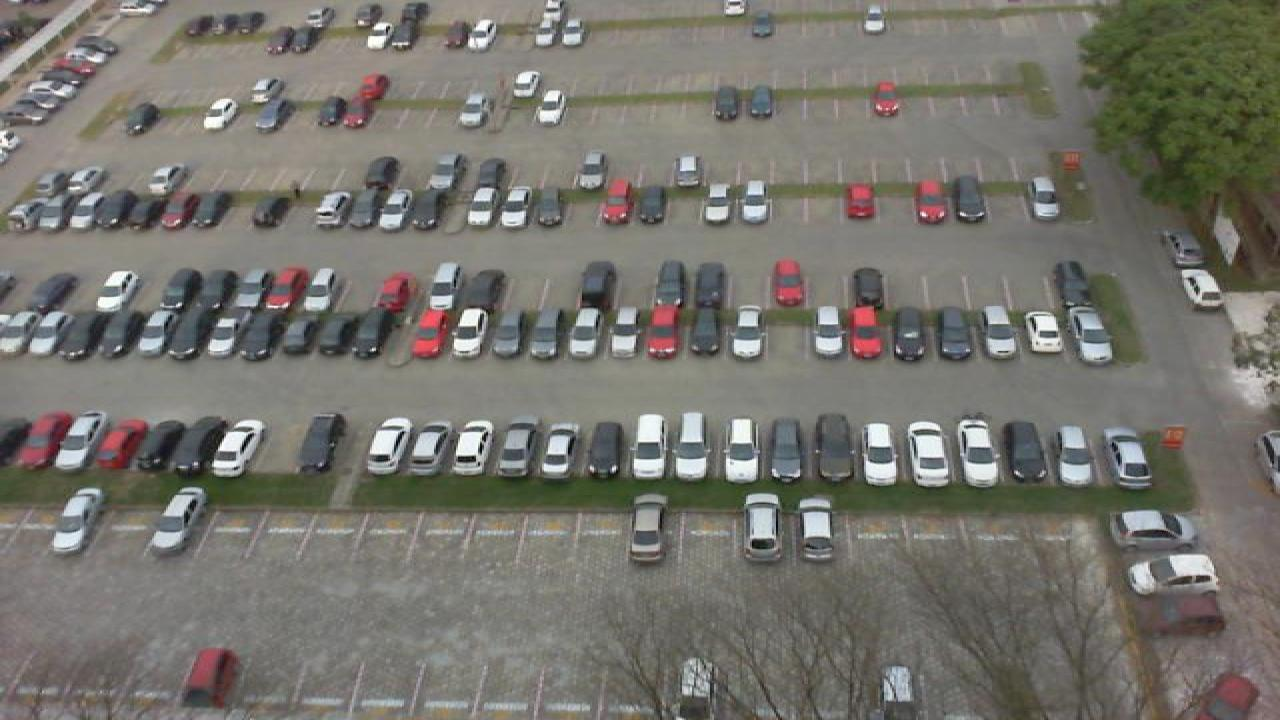Car: (1126, 552, 1222, 598), (50, 486, 106, 558), (152, 486, 208, 557), (178, 647, 238, 711), (1110, 509, 1202, 550), (1148, 592, 1228, 639), (1100, 425, 1156, 492), (952, 413, 1002, 487), (292, 412, 348, 476), (16, 409, 72, 472), (904, 418, 954, 488), (210, 418, 268, 478), (812, 411, 858, 486), (1000, 419, 1050, 487), (174, 415, 228, 477), (364, 416, 418, 478), (54, 411, 108, 472), (740, 493, 784, 565), (1052, 423, 1100, 488), (136, 419, 192, 474), (766, 415, 810, 485), (404, 421, 458, 477), (492, 418, 542, 478), (858, 421, 904, 486), (722, 414, 764, 485), (1066, 304, 1116, 362), (96, 419, 150, 472), (628, 412, 670, 480), (448, 420, 496, 478), (536, 421, 584, 479), (630, 493, 668, 565), (796, 495, 836, 563), (674, 410, 712, 481), (676, 657, 718, 720), (934, 304, 978, 362), (584, 420, 626, 480), (978, 303, 1022, 360), (880, 664, 924, 720), (58, 307, 102, 360), (94, 307, 138, 360), (728, 305, 770, 360), (24, 272, 80, 313), (810, 303, 850, 360), (848, 304, 888, 361), (890, 304, 930, 361), (644, 305, 684, 361), (684, 304, 724, 360), (130, 306, 172, 359), (566, 304, 606, 359), (410, 305, 450, 359), (1024, 308, 1068, 357), (350, 307, 392, 358), (168, 306, 208, 359), (206, 306, 246, 359), (448, 306, 488, 359), (424, 259, 466, 309), (488, 305, 526, 360), (242, 306, 282, 358), (312, 307, 352, 359), (528, 307, 566, 361), (20, 310, 64, 356), (96, 266, 140, 312), (574, 259, 616, 307), (608, 304, 644, 359), (264, 264, 308, 308), (1160, 227, 1206, 269), (1054, 259, 1094, 307), (650, 259, 690, 307), (278, 308, 316, 358), (950, 173, 988, 223), (598, 177, 636, 226), (158, 266, 200, 310), (464, 264, 504, 310), (692, 259, 730, 307), (1184, 269, 1228, 310), (772, 257, 808, 307), (302, 266, 342, 310), (230, 266, 270, 310), (194, 266, 234, 310), (88, 189, 128, 233), (360, 154, 402, 195), (700, 180, 738, 225), (372, 270, 412, 312), (60, 188, 98, 232), (314, 190, 354, 231), (120, 191, 160, 232), (250, 192, 292, 231), (412, 188, 450, 231), (914, 179, 950, 224), (1030, 175, 1064, 222), (378, 189, 416, 231), (496, 184, 532, 228), (462, 184, 498, 228), (348, 188, 384, 232), (842, 181, 880, 222), (154, 191, 192, 232), (30, 190, 66, 233), (738, 179, 772, 224), (848, 266, 886, 306), (572, 151, 610, 190), (190, 191, 226, 232), (340, 94, 380, 130), (0, 312, 34, 354), (426, 152, 462, 191), (122, 101, 162, 136), (634, 185, 668, 226), (532, 187, 566, 228), (474, 153, 510, 191), (148, 163, 188, 197), (200, 99, 240, 132), (252, 97, 288, 133), (534, 89, 568, 127), (484, 91, 518, 127), (310, 96, 346, 130), (358, 21, 396, 53), (382, 20, 418, 53), (872, 81, 904, 118), (710, 84, 742, 121), (464, 18, 498, 52), (674, 153, 706, 189), (530, 12, 560, 49), (40, 169, 78, 198), (744, 84, 774, 120), (356, 71, 392, 101), (248, 76, 286, 104), (76, 166, 112, 195), (264, 26, 300, 55), (510, 69, 544, 99), (288, 25, 322, 55), (440, 21, 472, 52), (234, 11, 268, 37), (402, 1, 430, 32), (184, 14, 216, 40), (748, 9, 776, 38), (862, 3, 888, 34), (560, 19, 588, 47), (212, 12, 242, 38), (722, 0, 748, 18)
